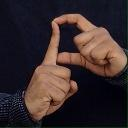hand: (23, 20, 78, 121), (51, 13, 127, 78)
